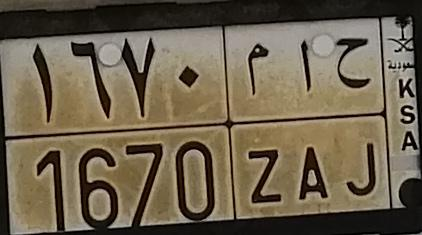0: (174, 64, 217, 221)
1: (29, 42, 69, 233)
6: (70, 40, 119, 229)
7: (120, 38, 165, 227)
A: (297, 38, 329, 200)
J: (337, 35, 371, 195)
Z: (246, 42, 284, 205)
